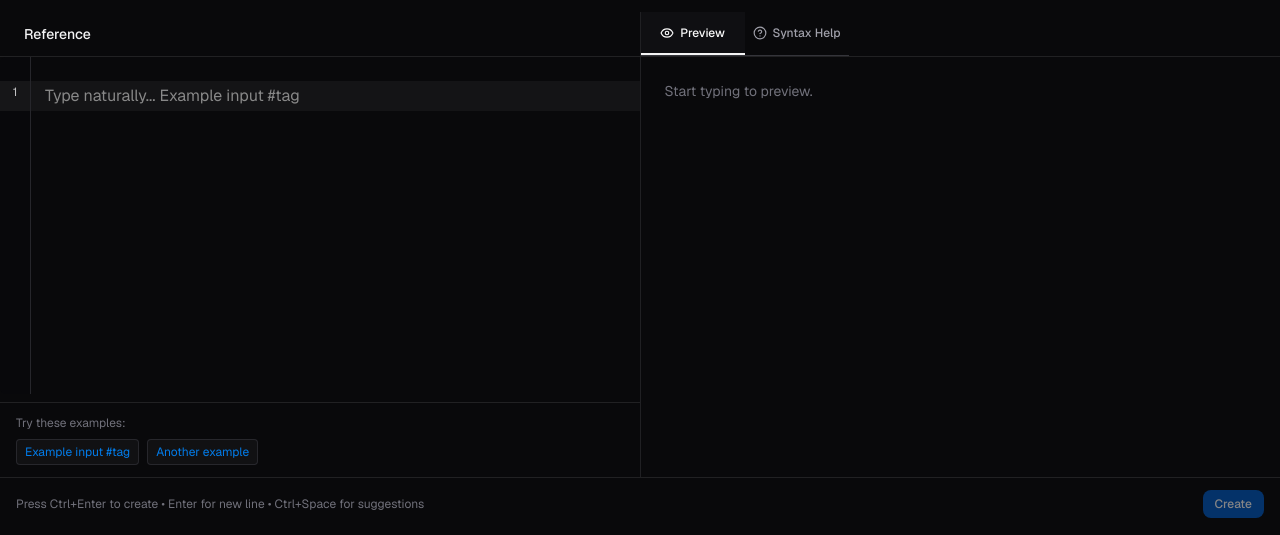
it: QuickInput › rendering › hides parser legend for reference node when both sections are empty
Click the tab "Syntax Help": x=797, y=34 [745, 12, 849, 55]
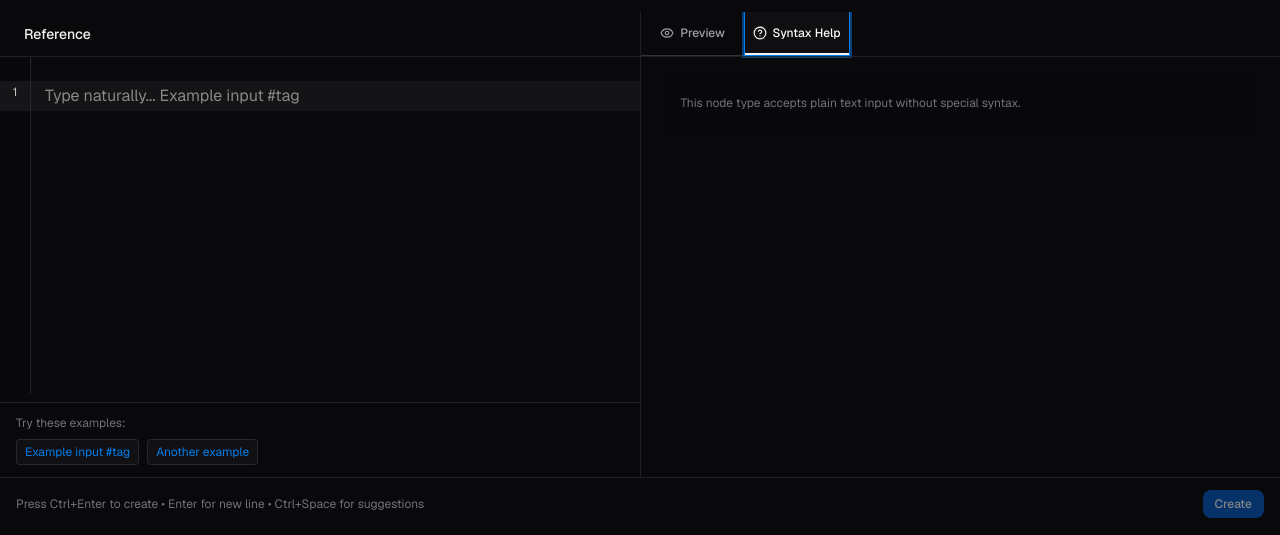
Now the text "This node type accepts plain text input without special syntax." is shown, box [664, 77, 1256, 129]
